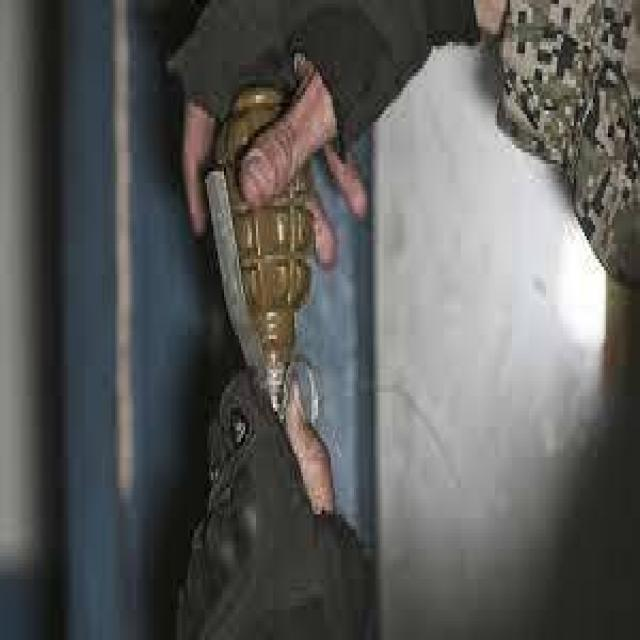grenade: (205, 74, 321, 456)
